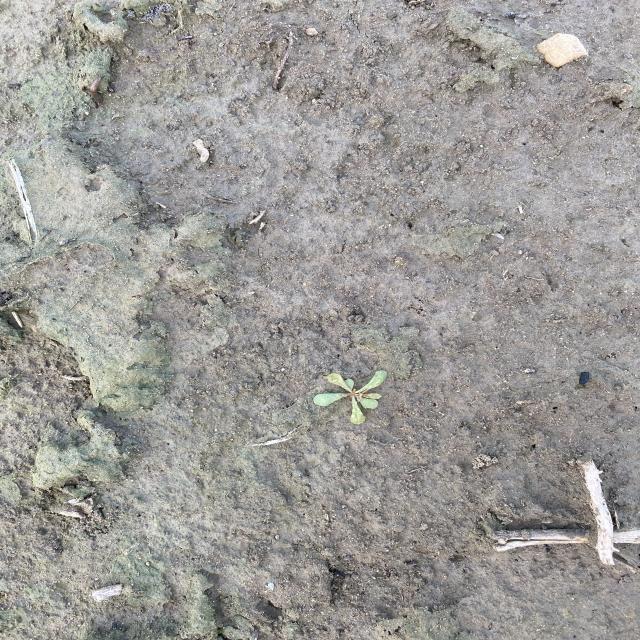Carpetweed: (312, 366, 389, 424)
